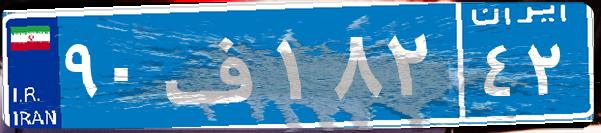0: (110, 28, 158, 105)
1: (273, 28, 330, 110)
2: (385, 28, 445, 110), (525, 38, 570, 115)
4: (475, 38, 525, 113)
8: (330, 28, 385, 110)
9: (57, 26, 110, 107)
ف: (158, 15, 273, 115)
